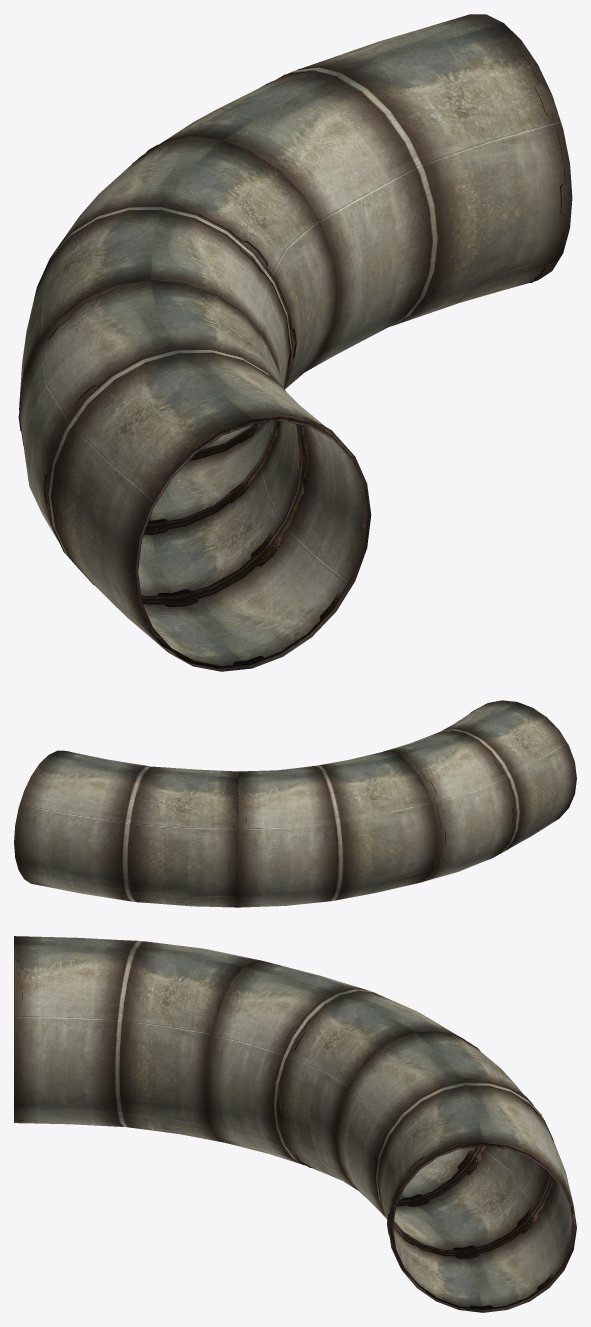
File: pump_tunnel_02_07_turn.dae
3 views of the same model, one above another, from view 1: azimuth 30°, elevation 25°; view 2: azimuth 150°, elevation 25°; view 3: azimuth 270°, elevation 25° (orthographic). The views are drawn at different scales.
Visible parts, largest first — view 1: polySurface606; view 2: polySurface606; view 3: polySurface606.
Boxes of the visible parts, x1,y1,x2,y2 form: polySurface606: (18,14,572,671); polySurface606: (14,700,576,907); polySurface606: (14,936,576,1312).
Bounding box in the file's own units: 12 × 4 × 12.
